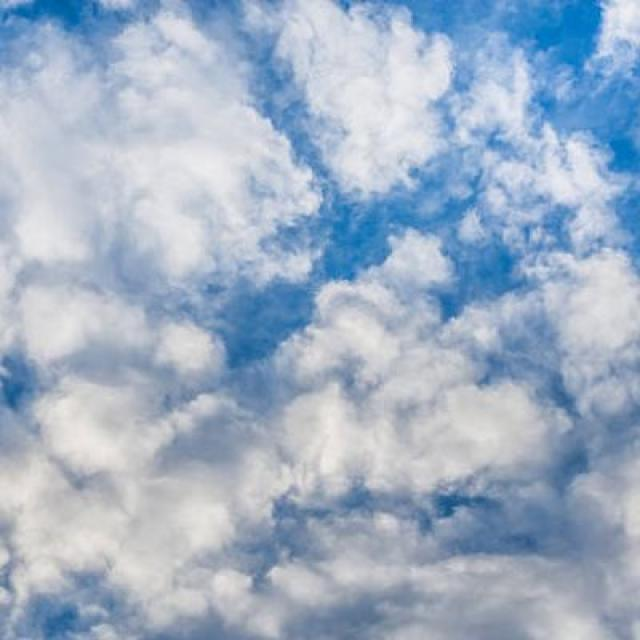As: (1, 66, 640, 525)
